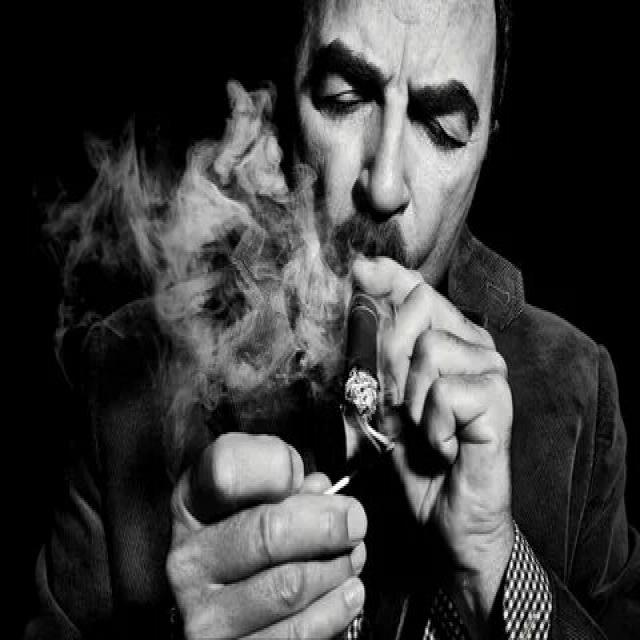cigarette: (335, 258, 396, 444)
